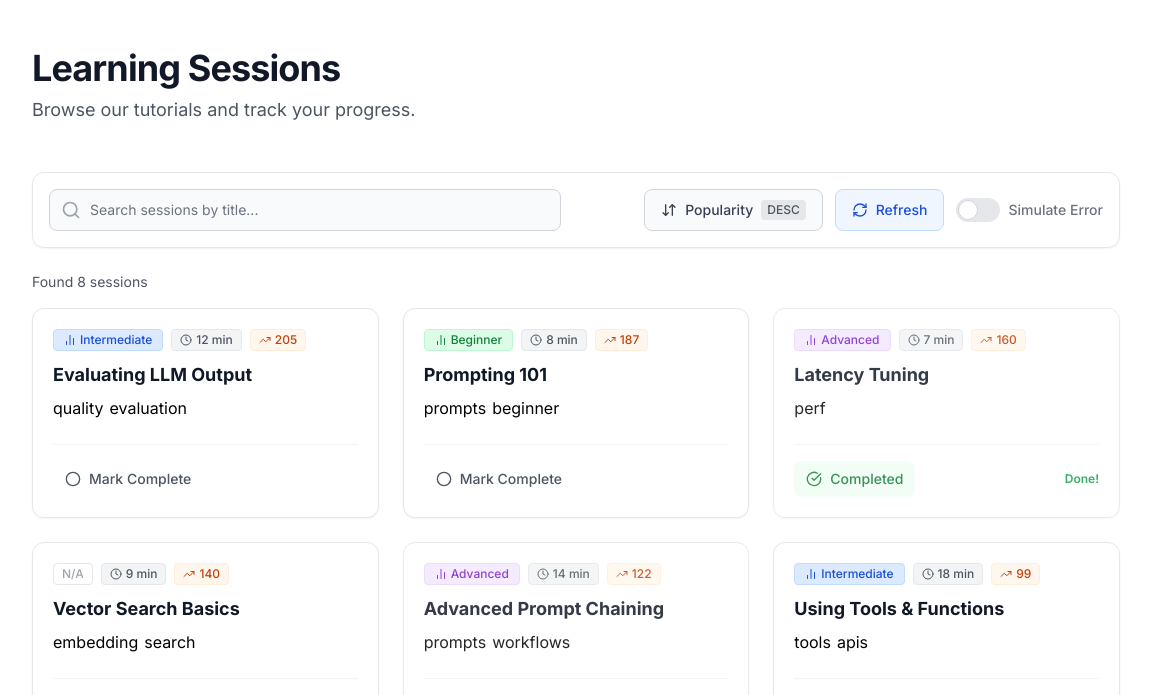
Test: Error Simulation › shows error state when refresh is clicked with error simulation enabled
Check: the heading "Prompting 101" is shown, box [424,364,547,385]
Note: Enable error simulation
Click the switch named "Simulate error on next fetch".
click(1030, 210)  # box [956,198,1103,222]
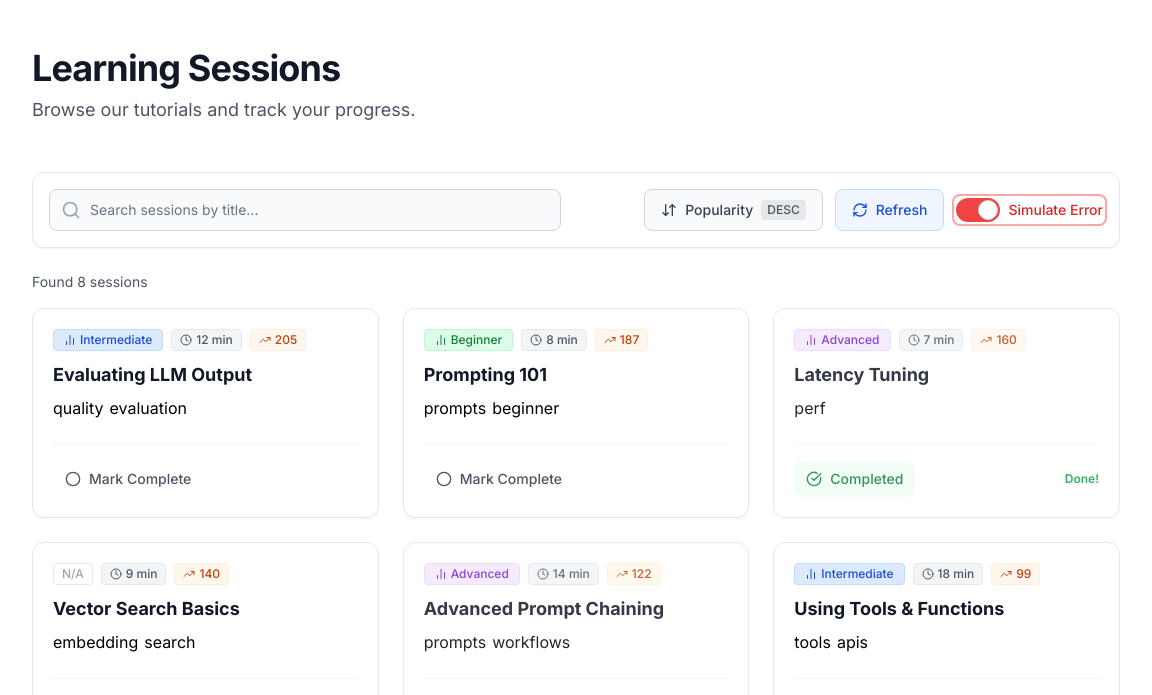
Check: the switch named "Simulate error on next fetch" is checked, box [956,198,1103,222]
Note: Click refresh button
Click the button with aria-label "refresh sessions".
click(890, 210)  # box [835,189,944,231]
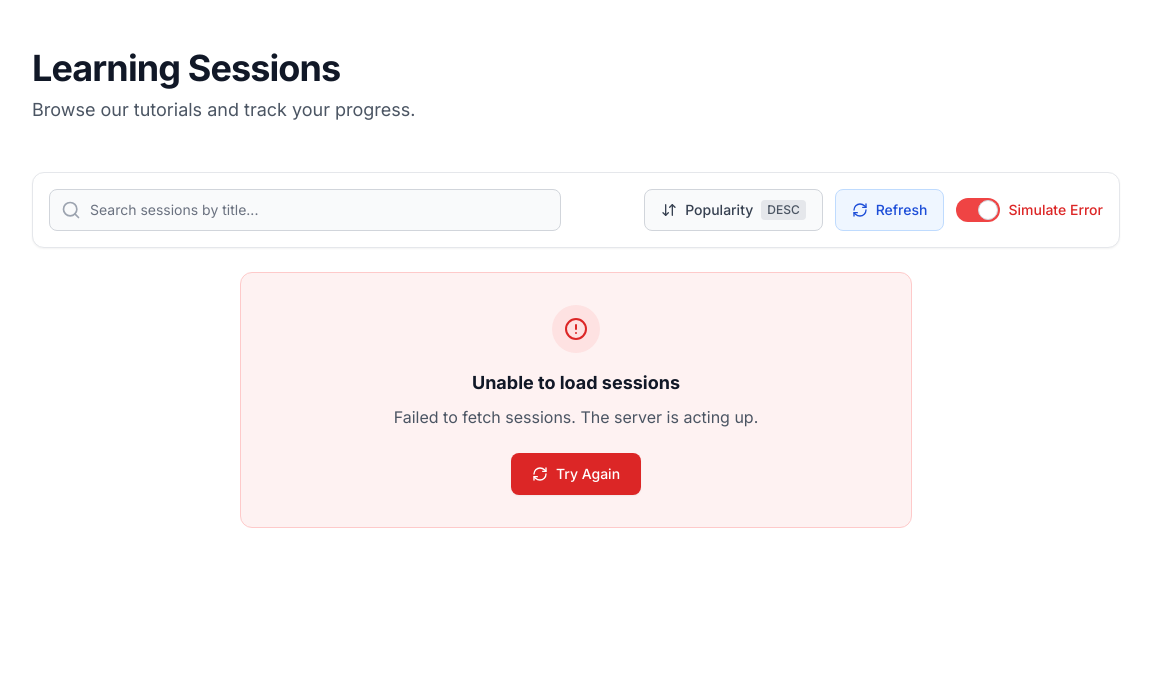
Check: the message is shown, box [240,272,912,528]
Check: the heading "Unable to load sessions" is shown, box [472,372,680,393]
Check: the text "Failed to fetch sessions. The server is acting up." is shown, box [394,407,758,427]
